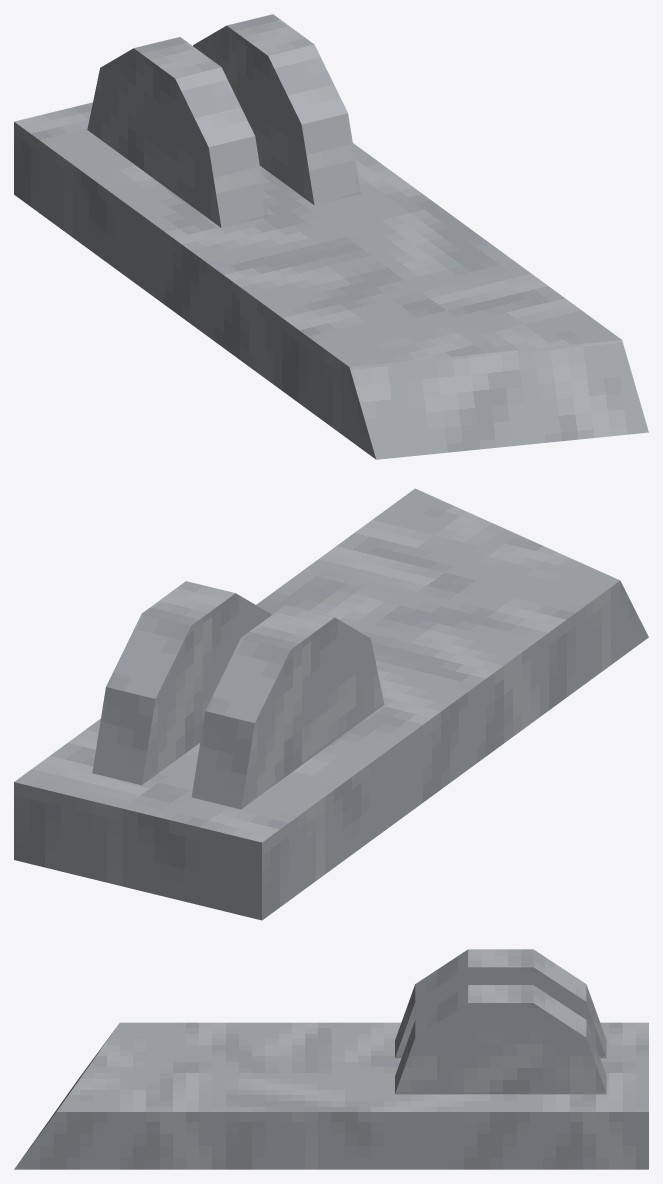
The model's file is right.obj.
The picture shows the model from 3 angles, top to bottom: view 1: azimuth 30°, elevation 25°; view 2: azimuth 150°, elevation 25°; view 3: azimuth 270°, elevation 25°; orthographic projection. The views are drawn at different scales.
Bounding box in the file's own units: 0.1 × 0.0776 × 0.3.
